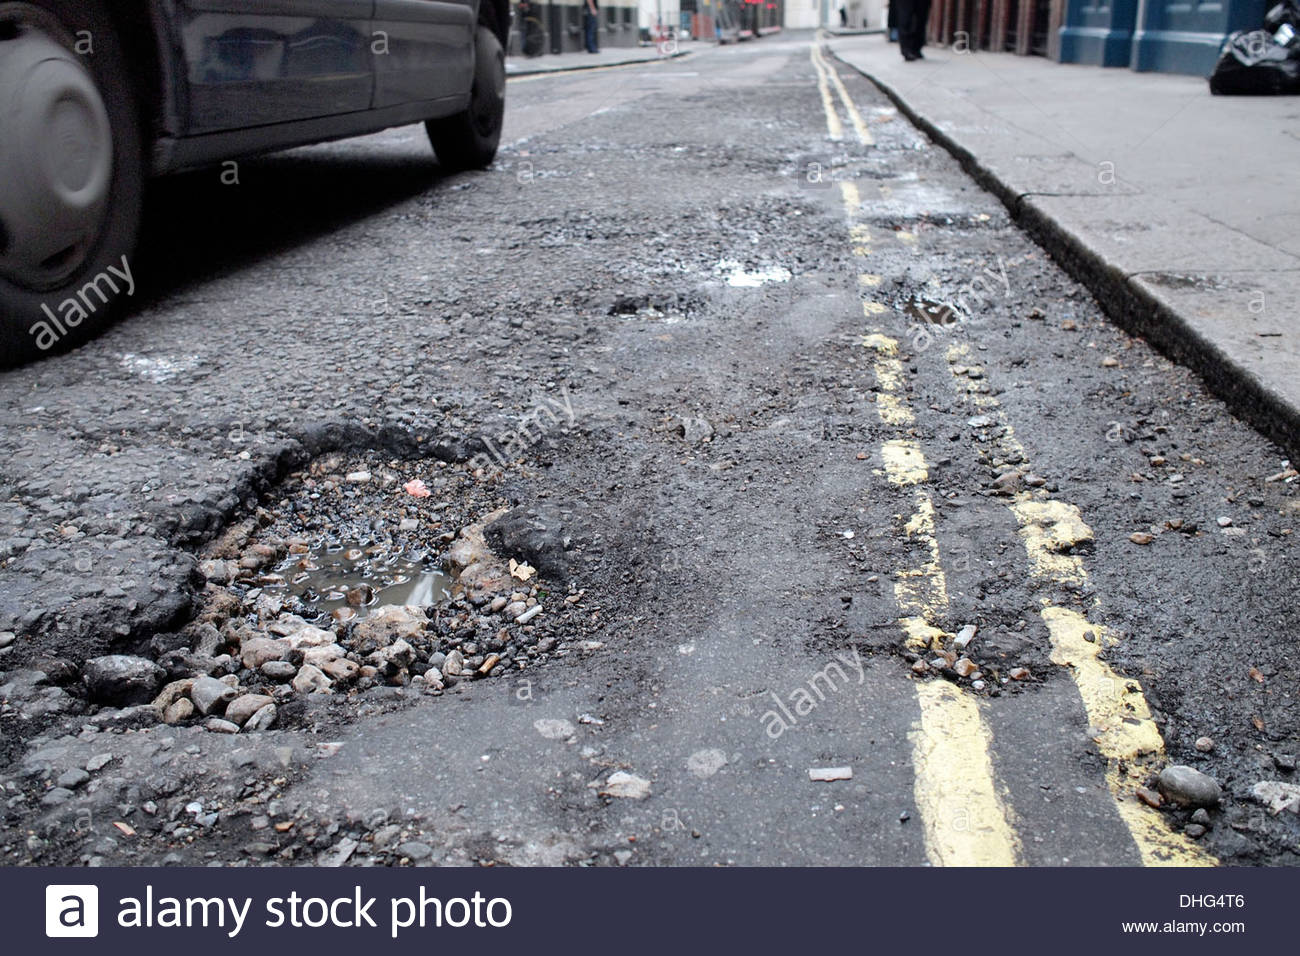pothole: (117, 434, 665, 754), (846, 172, 1011, 274), (699, 101, 859, 201), (607, 264, 741, 332)
